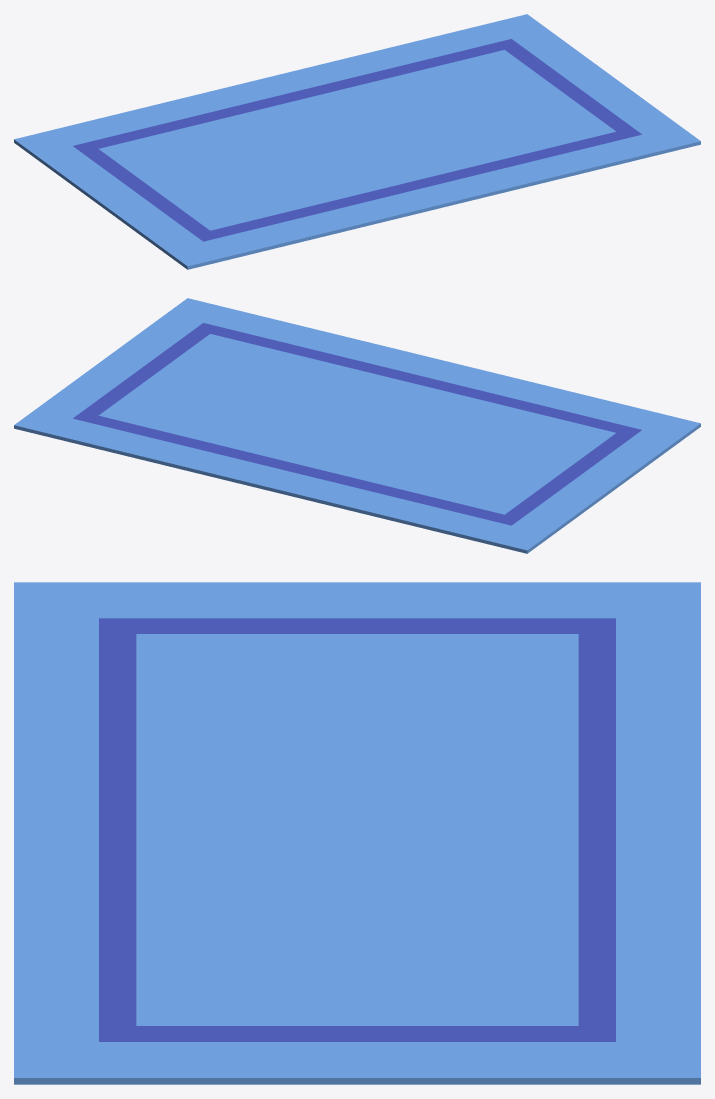
File: Furniture_rug_Rectangle.fbx
3 renders of one model, top to bottom at view 1: azimuth 30°, elevation 25°; view 2: azimuth 150°, elevation 25°; view 3: azimuth 270°, elevation 25°, orthographic. The views are drawn at different scales.
Parts seen in each view (by area): view 1: rugRectangle; view 2: rugRectangle; view 3: rugRectangle.
Boxes of the visible parts, box(x1,y1,x2,y2) form: rugRectangle: box(14, 14, 700, 269); rugRectangle: box(14, 298, 700, 553); rugRectangle: box(14, 582, 700, 1084).
Bounding box in the file's own units: 1570 × 10 × 920.
